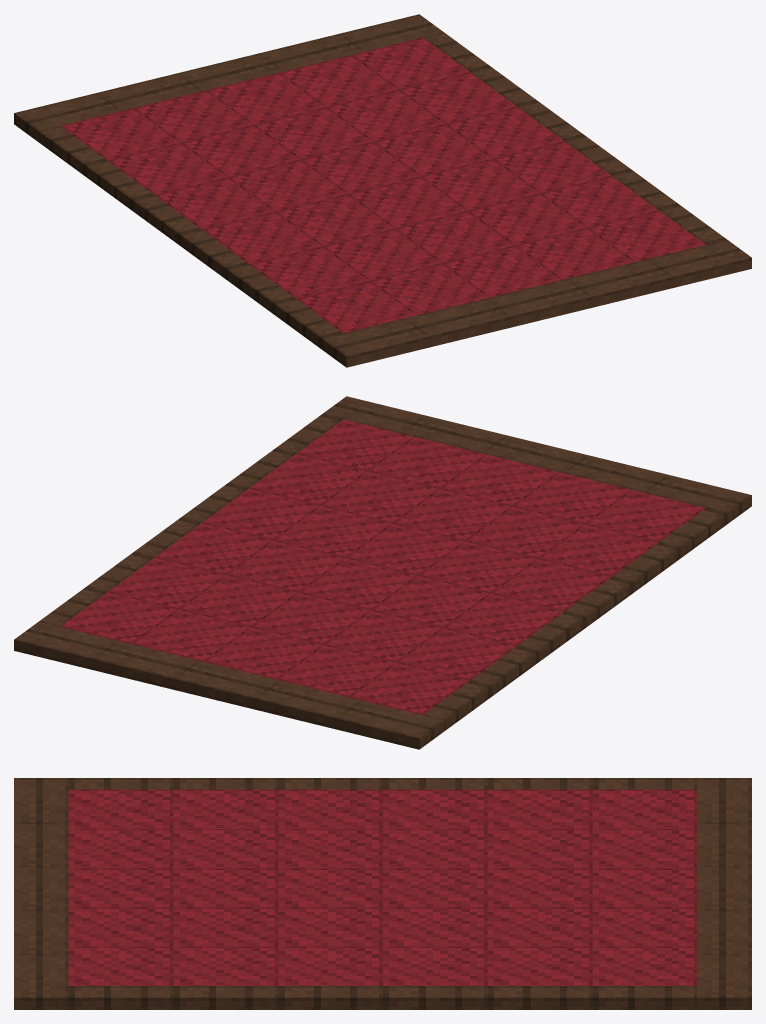
The model's file is corridorCarpet_0.glb.
The picture shows the model from 3 angles, top to bottom: view 1: azimuth 30°, elevation 25°; view 2: azimuth 150°, elevation 25°; view 3: azimuth 270°, elevation 25°; orthographic projection. The views are drawn at different scales.
Parts seen in each view (by area): view 1: corridorCarpet_0; view 2: corridorCarpet_0; view 3: corridorCarpet_0.
Boxes of the visible parts, x1,y1,x2,y2 form: corridorCarpet_0: (14, 14, 751, 367); corridorCarpet_0: (14, 396, 751, 749); corridorCarpet_0: (14, 778, 751, 1009).
Size of the model in its own units: 2.38 by 0.0625 by 3.38.
Materials: 1 (1 with a texture image).
